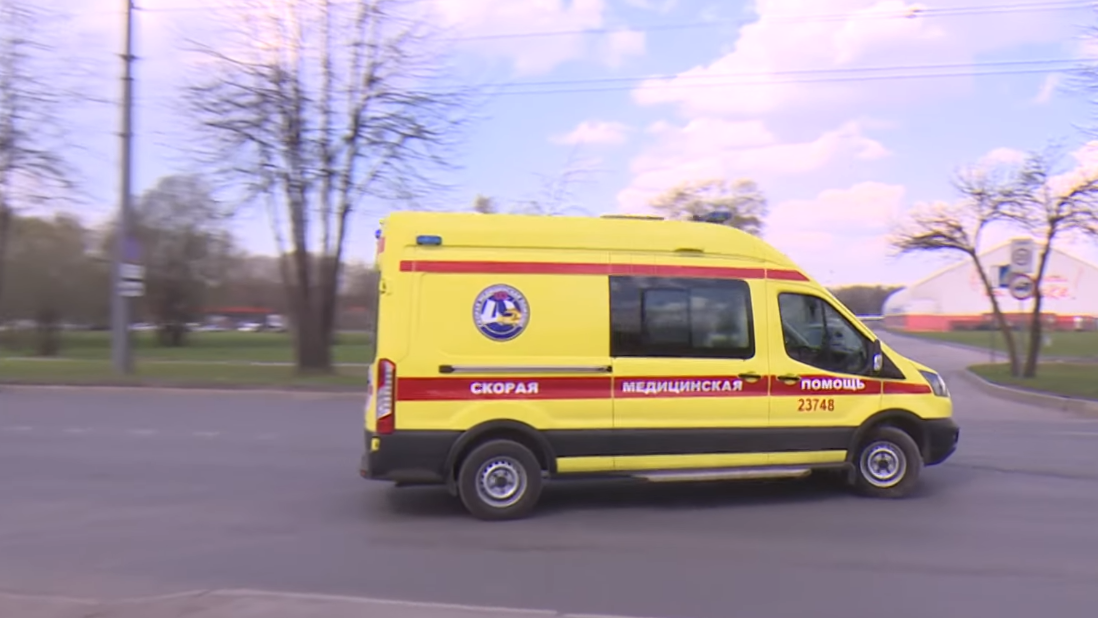intensive care unit: (364, 211, 960, 522)
